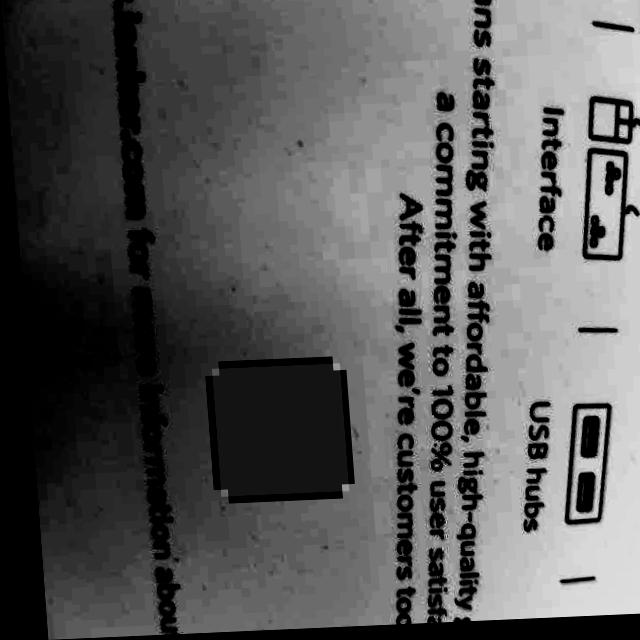qr_code: (205, 366, 340, 499)
